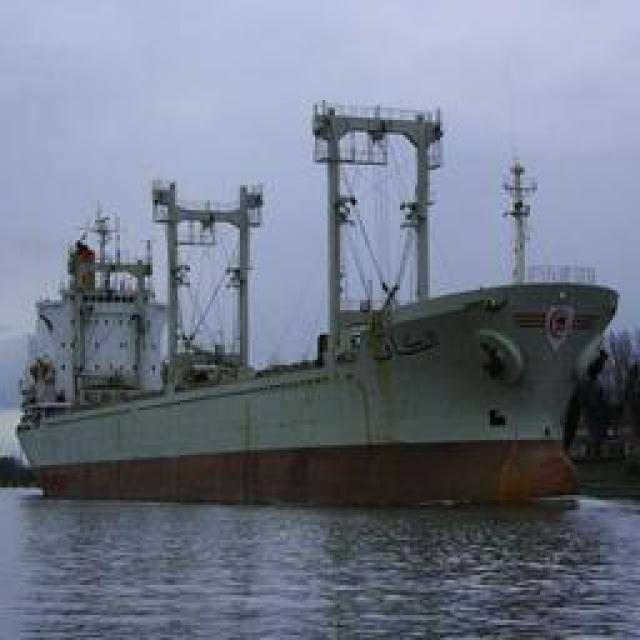Ship: (19, 230, 622, 513)
